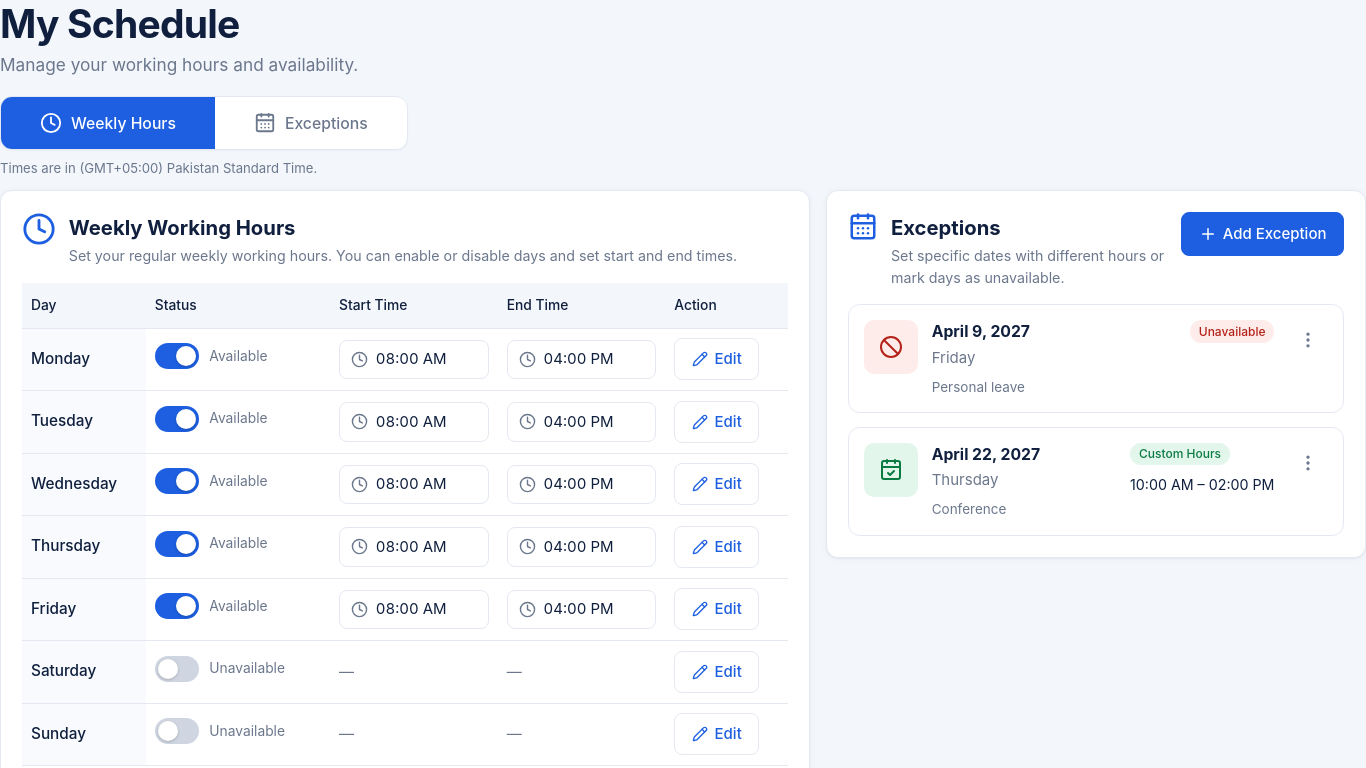
weekly working hours › switching a day off and saving sends the whole week
The image size is (1366, 768).
Click the switch named "Friday available".
click(177, 606)  # box [155,593,199,619]
(page scrolled)
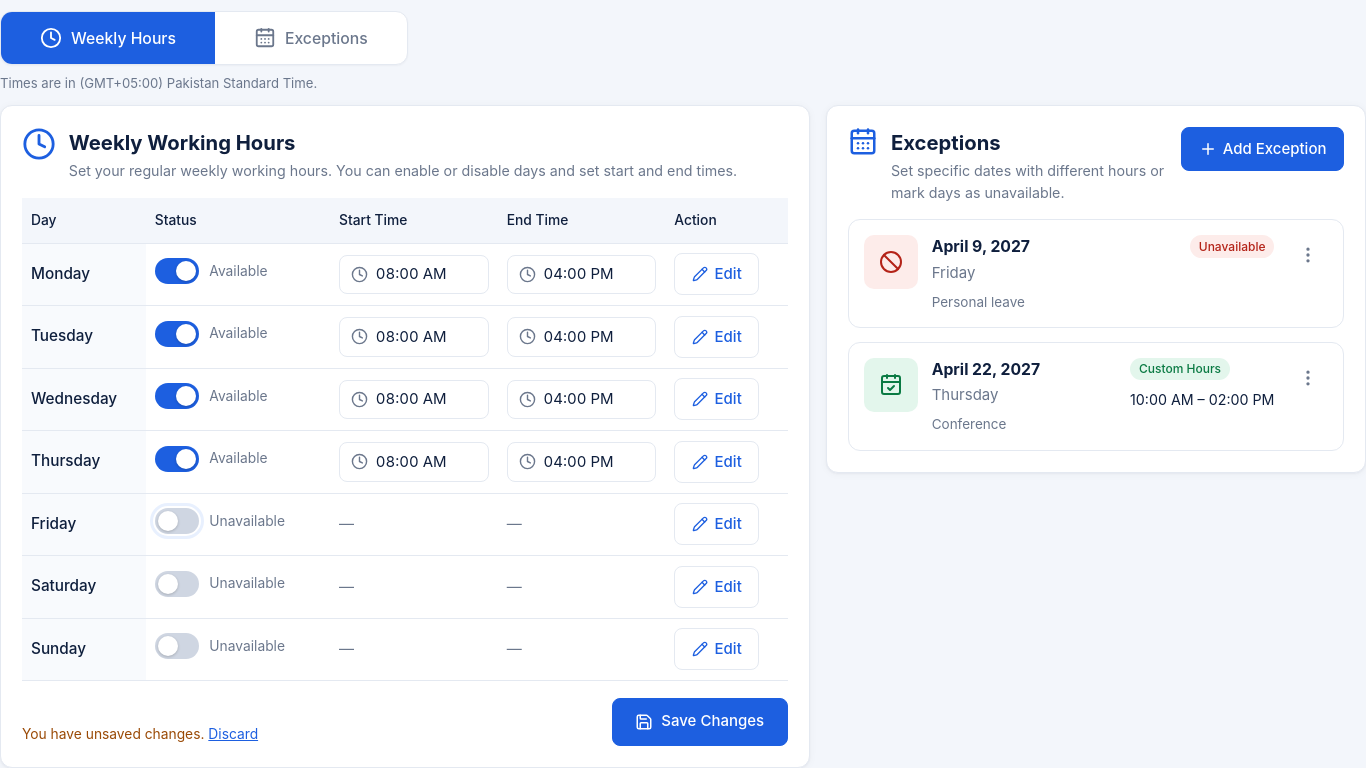
Expected: the row "Friday" does not show "08:00 AM", [22,493,788,556]
Now the row "Friday" shows "Unavailable", box [209,513,285,529]
Now the text "You have unsaved changes. Discard" is shown, box [22,726,258,742]
Click the button "Save Changes".
click(700, 722)  # box [612,698,788,746]
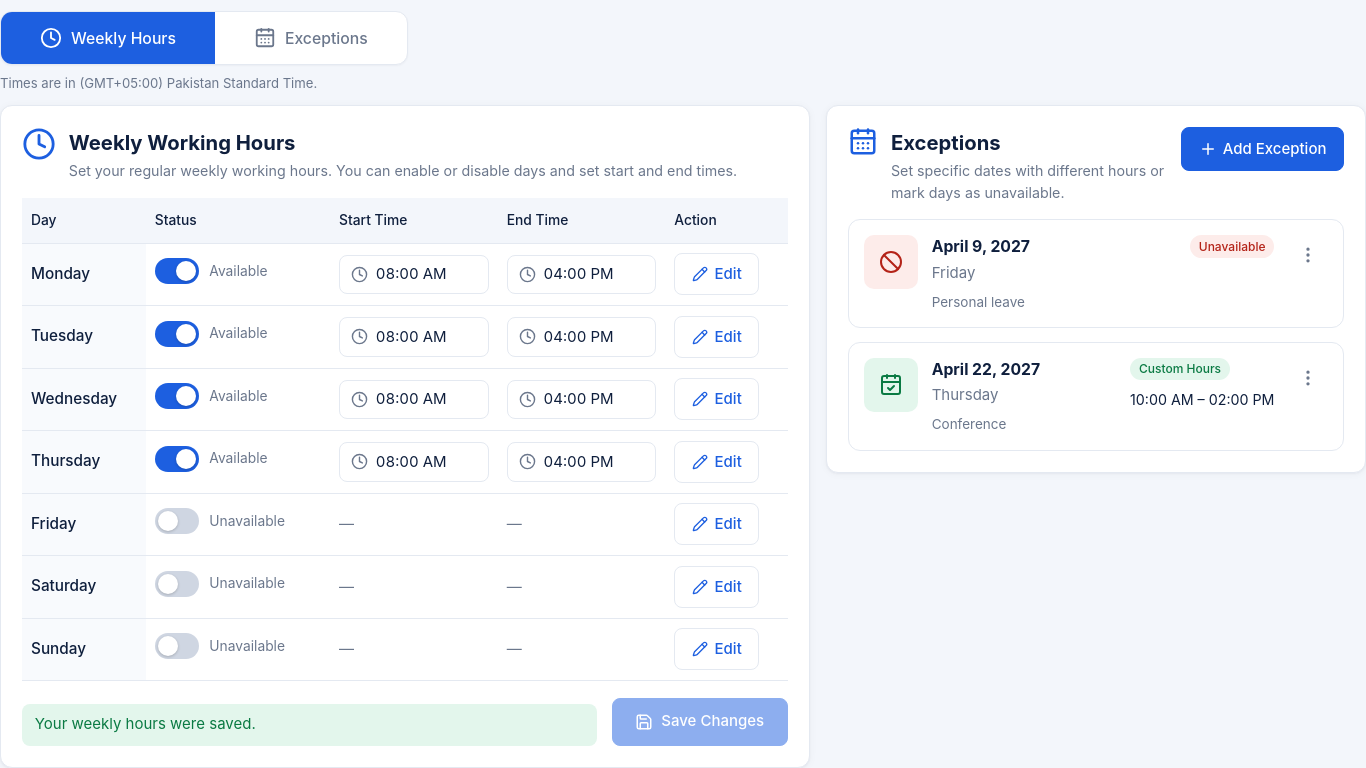
Now the text "Your weekly hours were saved." is shown, box [22,704,597,746]
Now the text "You have unsaved changes" is gone
